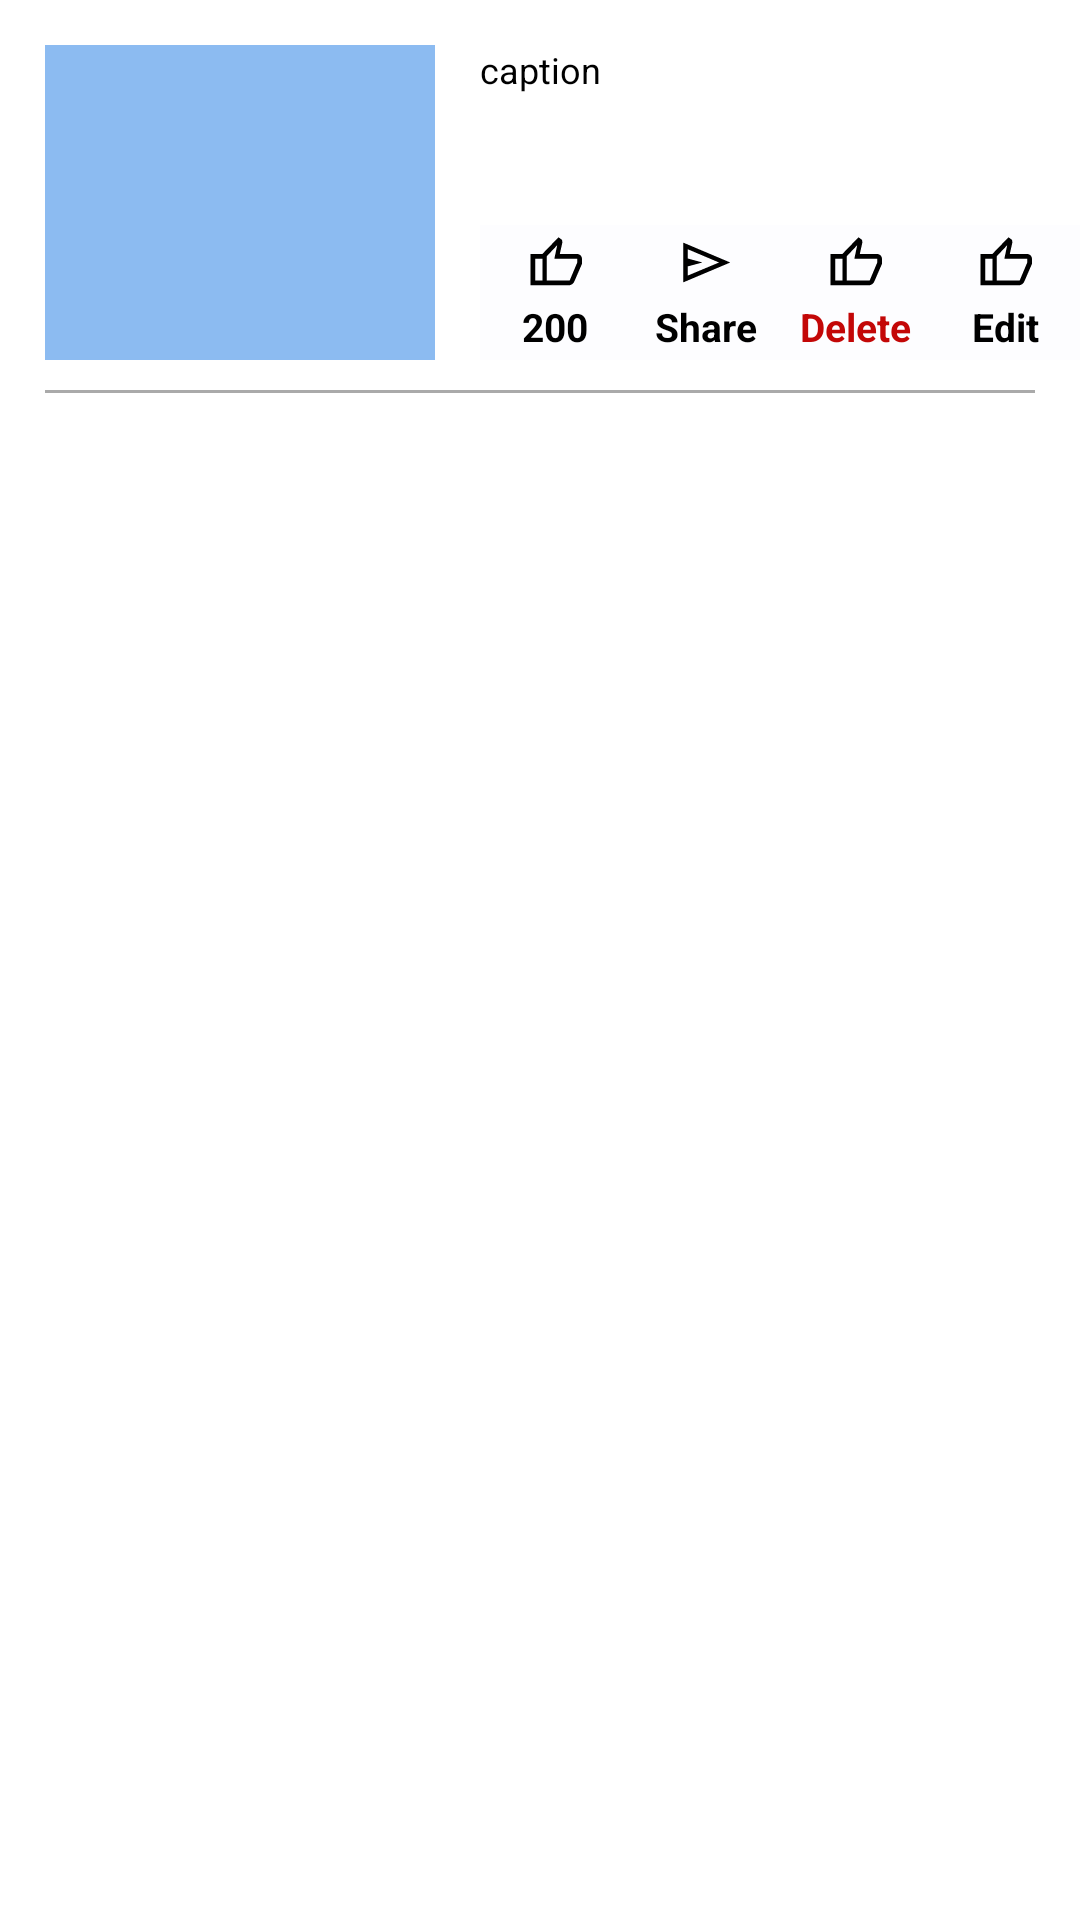

Locate icon controls on the screen. Image size 1080px x 1920px, boxes as [left=x1, top=y1, right=x2, bottom=y2].
like: [left=530, top=237, right=582, bottom=286], [left=830, top=237, right=882, bottom=286], [left=980, top=237, right=1032, bottom=286]
send: [left=683, top=242, right=730, bottom=283]
